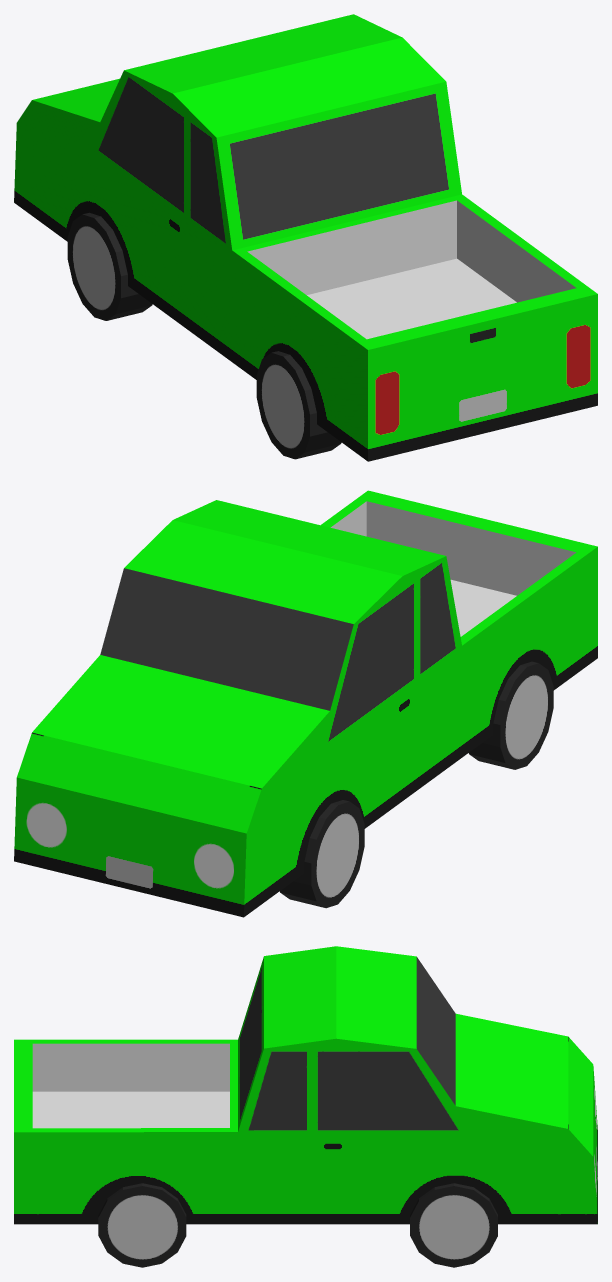
The model's file is pickup.dae.
3 renders of one model, top to bottom at view 1: azimuth 30°, elevation 25°; view 2: azimuth 150°, elevation 25°; view 3: azimuth 270°, elevation 25°, orthographic. The views are drawn at different scales.
Visible parts, largest first — view 1: Cube; view 2: Cube; view 3: Cube.
Part boxes in pixels (x1,y1,x2,y2): Cube: (14,14,597,461); Cube: (14,490,597,917); Cube: (14,946,597,1267).
Size of the model in its own units: 1.51 by 3.81 by 1.63.
